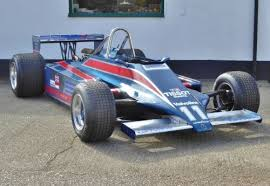f1_car: (7, 24, 268, 153)
